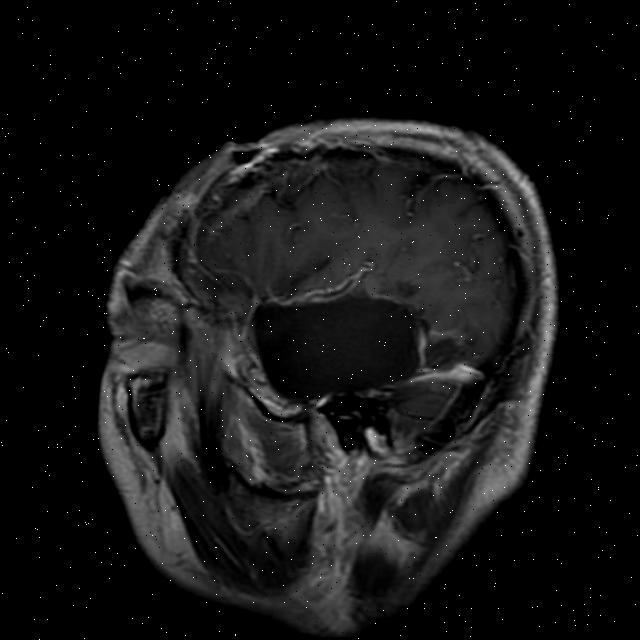Glioma: (244, 282, 426, 412)
